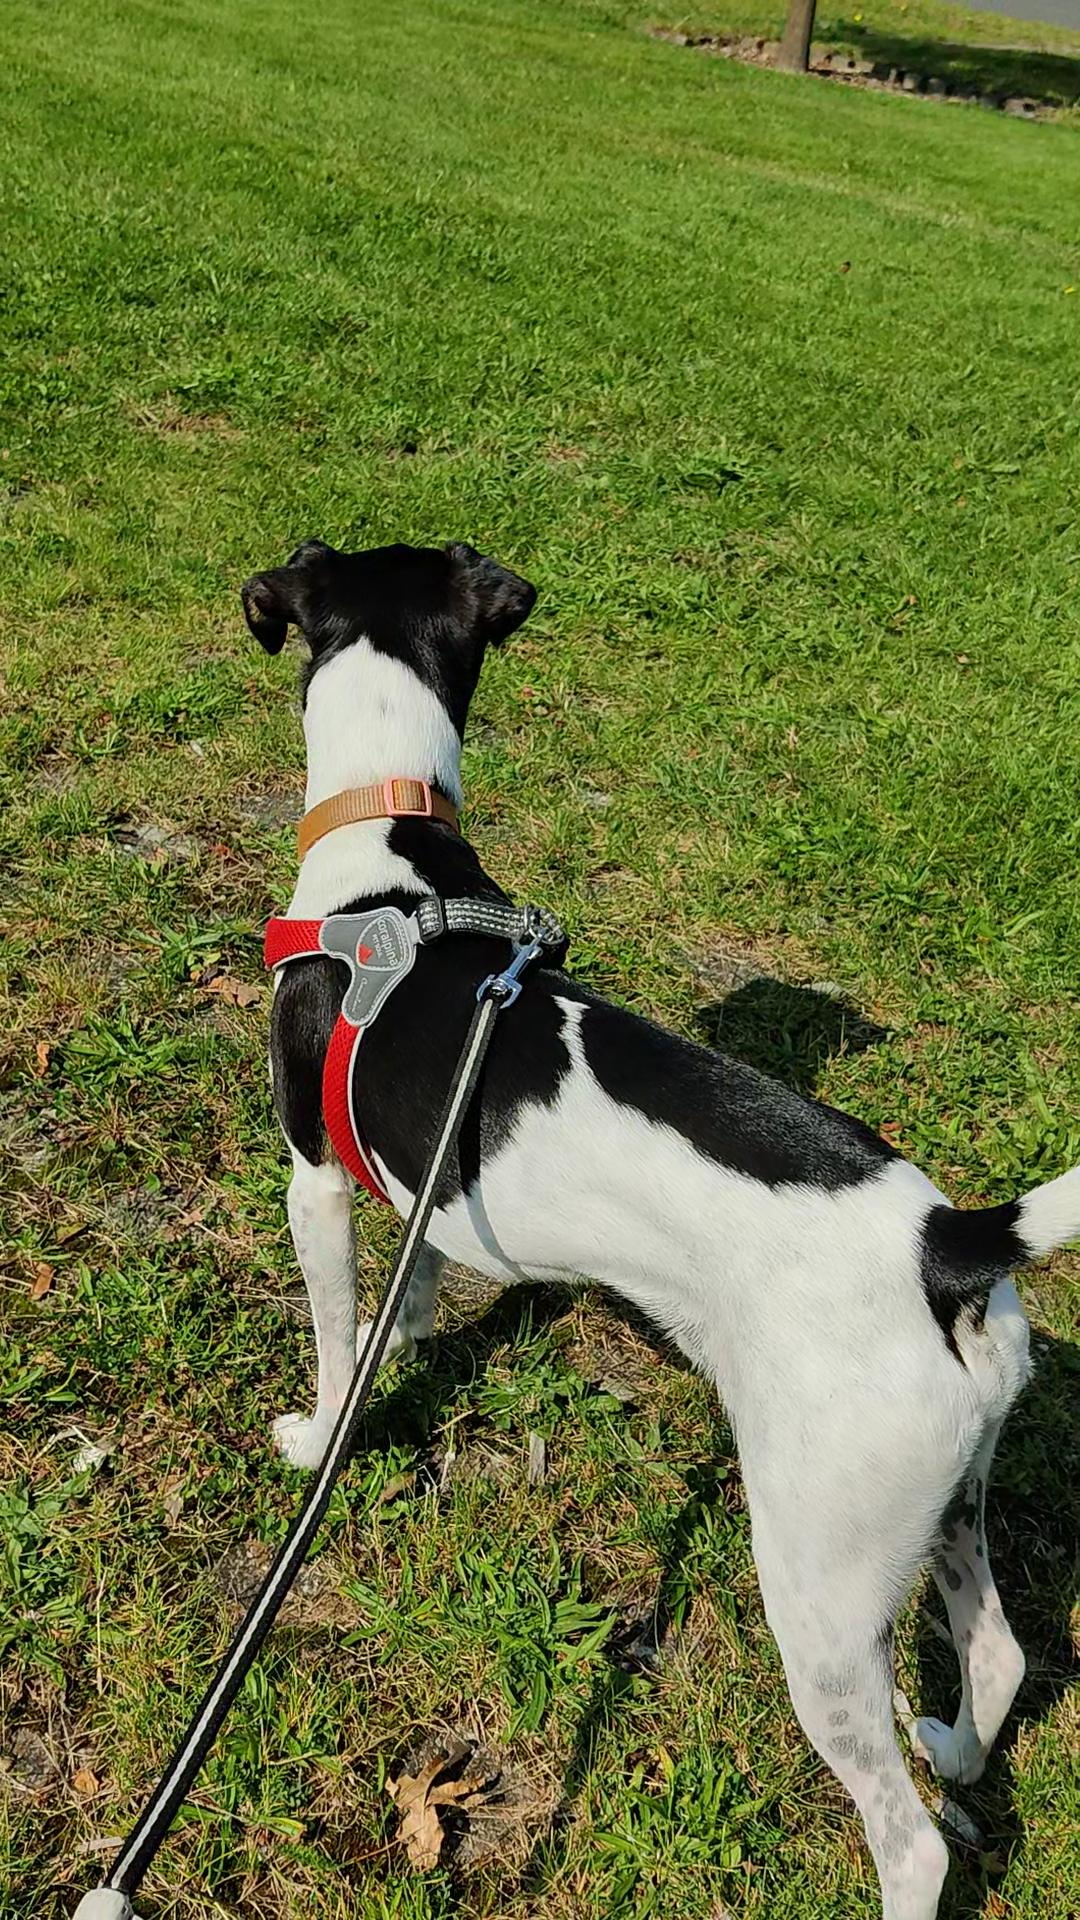Dog: (204, 516, 1079, 1919)
